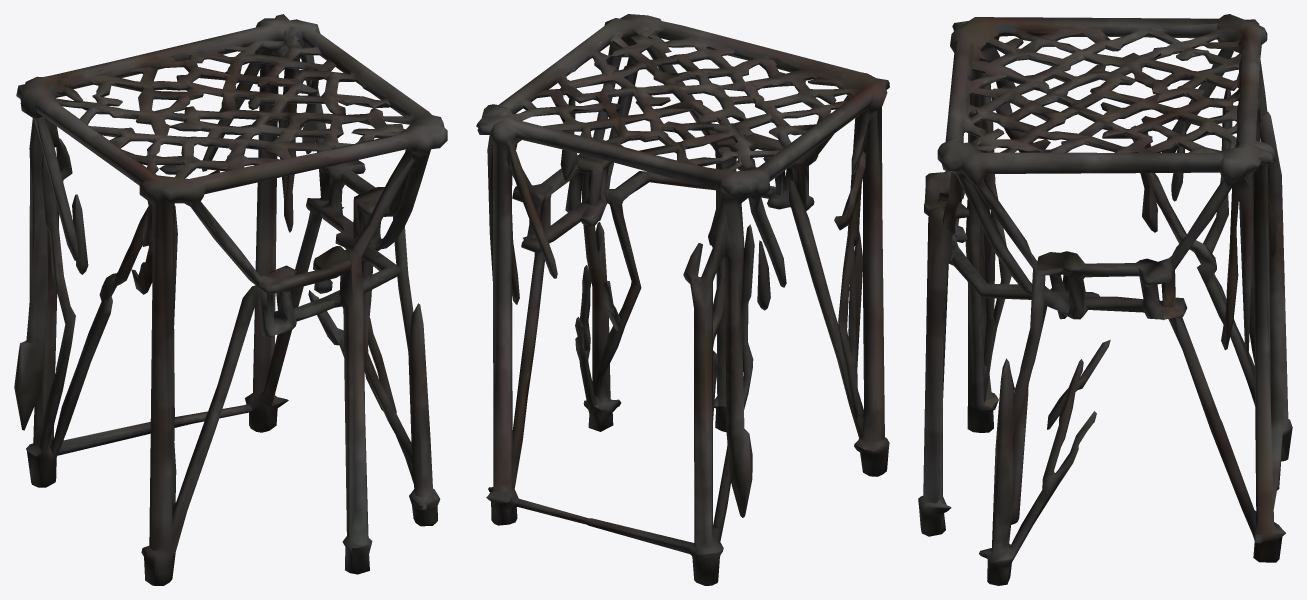
File: plain-iron-portcullis-v001.glb
3 views of the same model, side by side, from view 1: azimuth 30°, elevation 25°; view 2: azimuth 150°, elevation 25°; view 3: azimuth 270°, elevation 25° (orthographic). The views are drawn at different scales.
Visible parts, largest first — view 1: plain-iron-portcullis; view 2: plain-iron-portcullis; view 3: plain-iron-portcullis.
Part boxes in pixels (x1,y1,x2,y2): plain-iron-portcullis: (14, 14, 447, 585); plain-iron-portcullis: (476, 14, 889, 585); plain-iron-portcullis: (918, 14, 1292, 585).
Bounding box in the file's own units: 1.97 × 2.61 × 2.06.
1 material, 1 textured.
